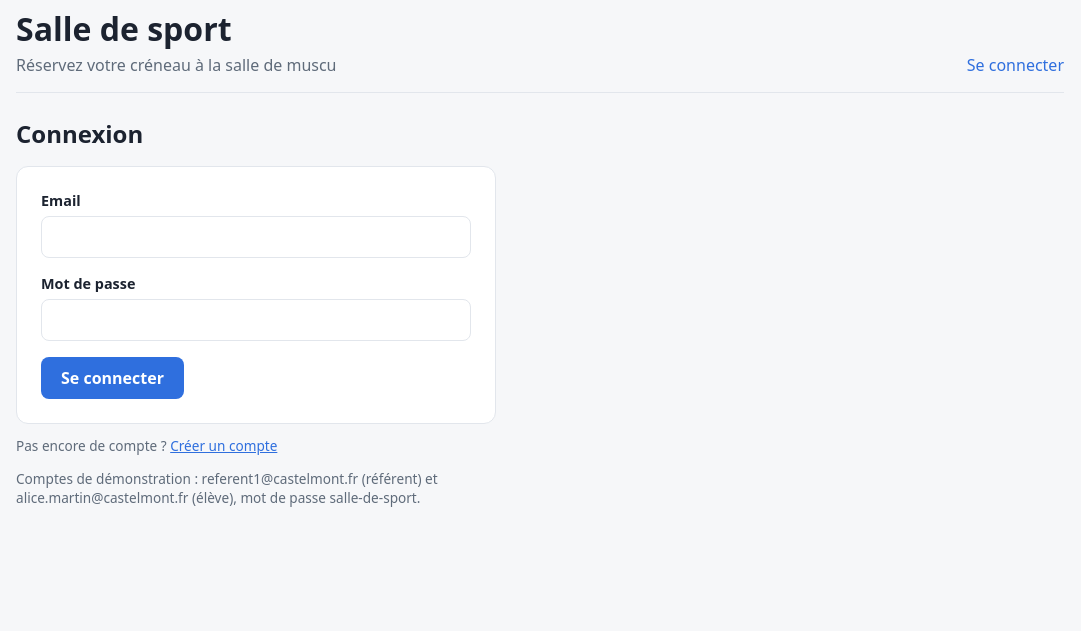
Test: RegisterPage › opens from the login page
Click the link "Créer un compte". click: x=224, y=446
box: [170,436,277,455]
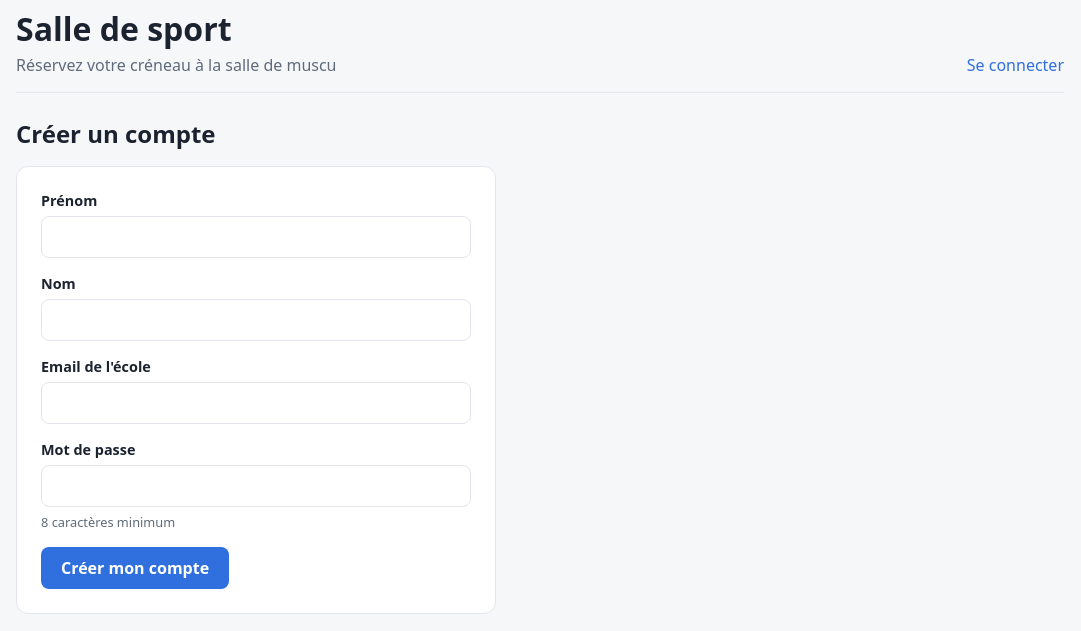
Check: the heading "Créer un compte" is shown, box [16,117,216,150]
